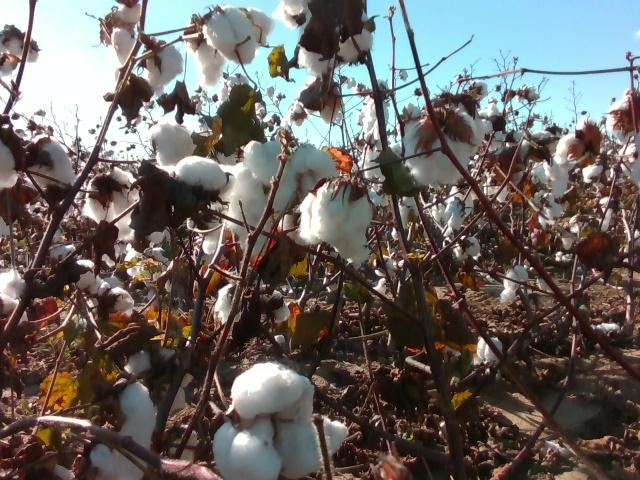cotton_ready: (213, 362, 324, 480), (243, 141, 338, 212), (202, 162, 271, 257), (297, 182, 375, 264), (279, 0, 361, 74), (403, 109, 482, 185), (125, 347, 195, 414), (116, 377, 157, 480), (176, 158, 230, 232), (204, 9, 275, 64), (85, 169, 141, 237), (124, 228, 174, 280), (29, 135, 78, 186), (555, 117, 601, 168), (531, 160, 570, 220), (142, 38, 182, 94), (110, 3, 144, 65), (145, 125, 195, 164), (76, 437, 121, 480), (87, 277, 134, 316), (335, 15, 377, 58), (607, 90, 640, 143), (52, 244, 92, 287), (196, 37, 226, 91), (257, 291, 288, 328), (0, 267, 26, 306), (0, 141, 20, 191), (216, 285, 241, 324)
